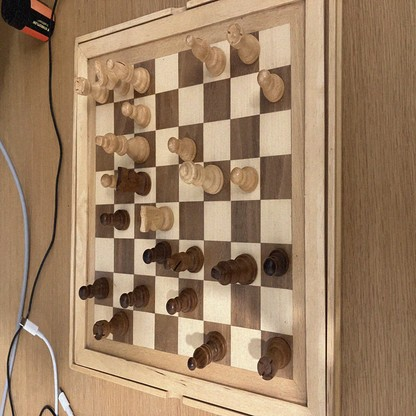bishop_black: (188, 333, 227, 369), (163, 246, 203, 273)
bishop_white: (186, 35, 226, 75), (107, 60, 150, 93)
king_black: (211, 254, 257, 285)
king_white: (96, 134, 151, 160)
knight_black: (117, 165, 152, 193)
knight_white: (95, 62, 129, 96), (140, 206, 174, 230)
pawn_black: (165, 289, 197, 314), (78, 277, 109, 301), (120, 285, 150, 308), (143, 242, 171, 266), (265, 250, 289, 275), (101, 210, 129, 229)
pawn_white: (258, 70, 285, 101), (122, 102, 151, 127), (168, 137, 196, 162), (231, 167, 258, 192)
queen_white: (180, 164, 224, 194)
rock_black: (258, 340, 291, 380), (93, 310, 130, 340)
rock_white: (227, 24, 260, 64), (75, 77, 107, 105)
